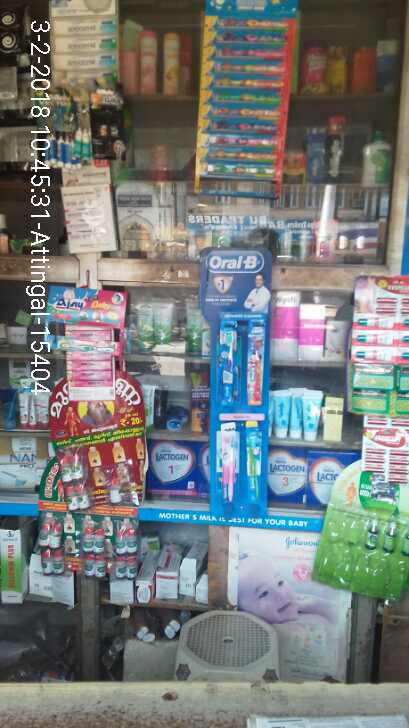oralb: (219, 316, 240, 405), (247, 313, 265, 406), (245, 417, 264, 503), (220, 419, 238, 508)
